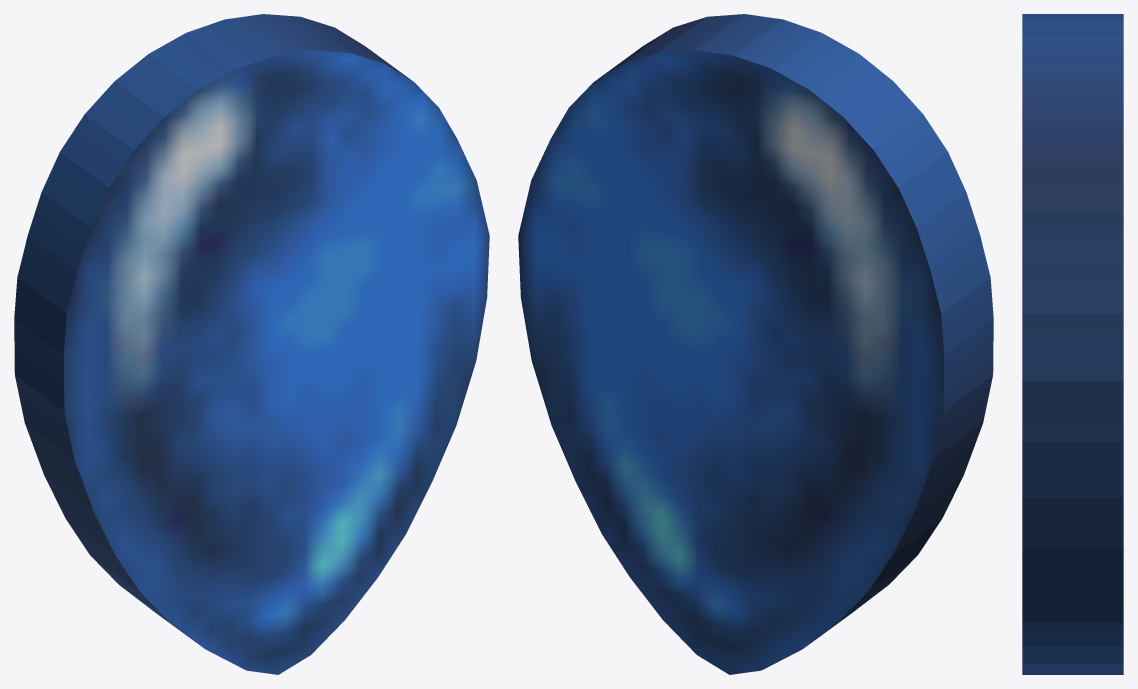
Rendered from Rarity_Rare.glb.
The picture shows the model from 3 angles, left to right: view 1: azimuth 30°, elevation 25°; view 2: azimuth 150°, elevation 25°; view 3: azimuth 270°, elevation 25°; orthographic projection. The views are drawn at different scales.
Parts seen in each view (by area): view 1: Circle; view 2: Circle; view 3: Circle.
Part boxes in pixels (x1,y1,x2,y2): Circle: (14, 14, 489, 674); Circle: (518, 14, 993, 674); Circle: (1022, 14, 1123, 674).
Size of the model in its own units: 0.4969 by 0.6914 by 0.1.
1 material, 1 textured.
